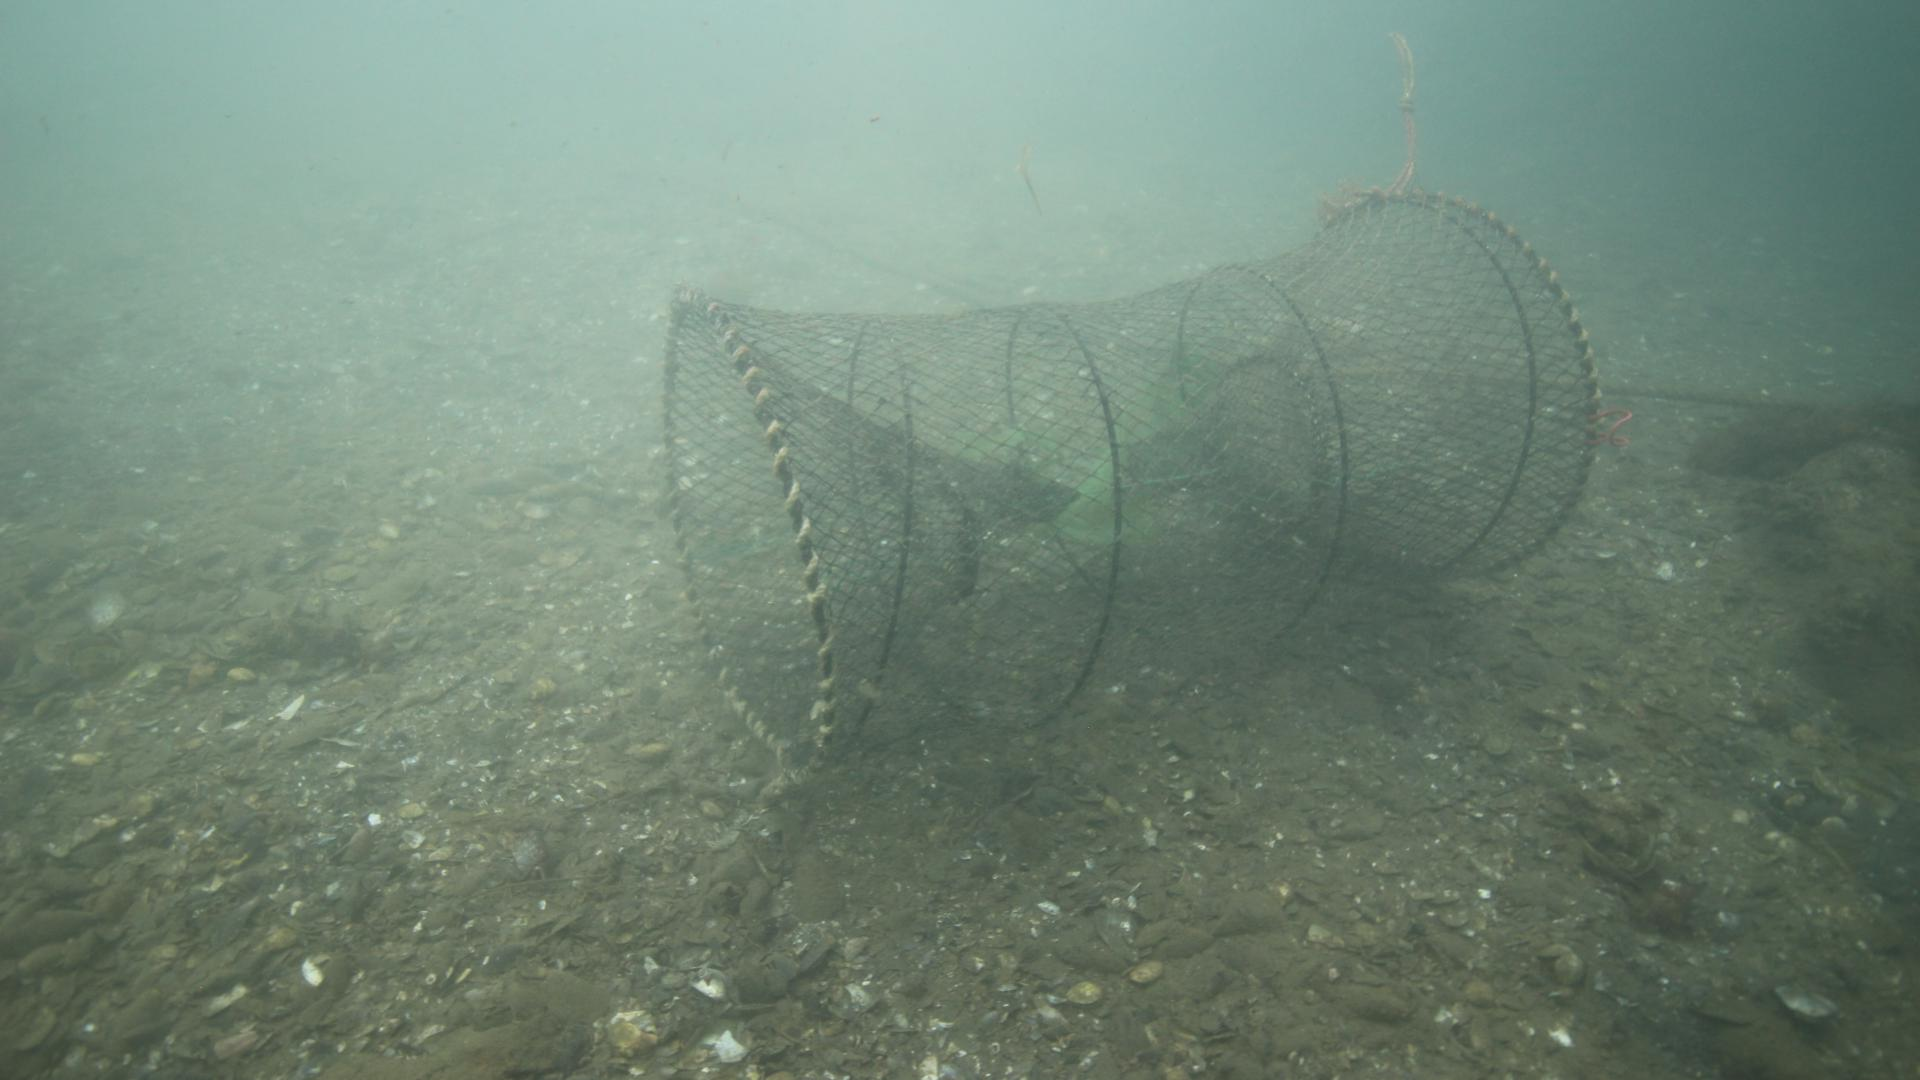bundle of ropes: (1383, 26, 1422, 193)
rope: (1607, 378, 1782, 411)
spring fish trap: (661, 185, 1604, 773)
